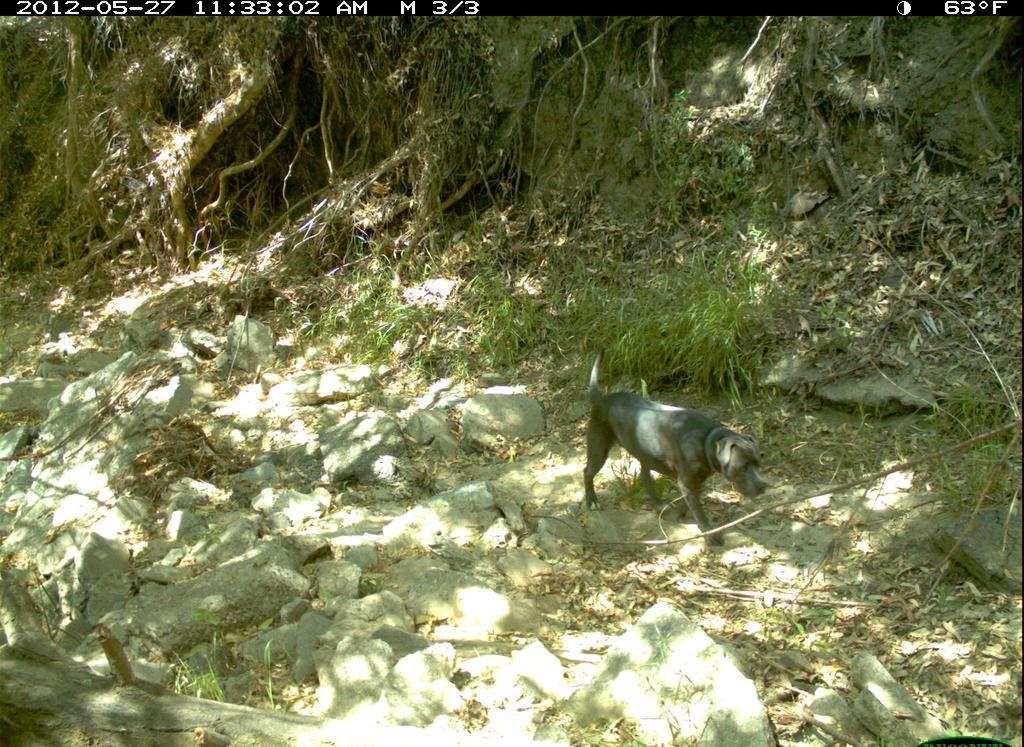dog: (573, 342, 769, 564)
